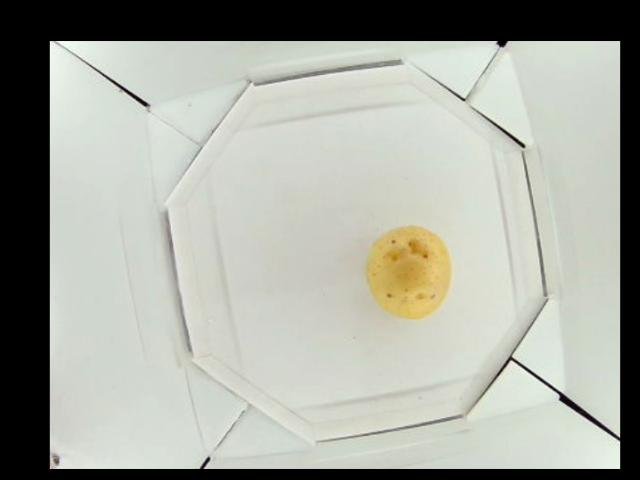Potato: (364, 222, 452, 320)
